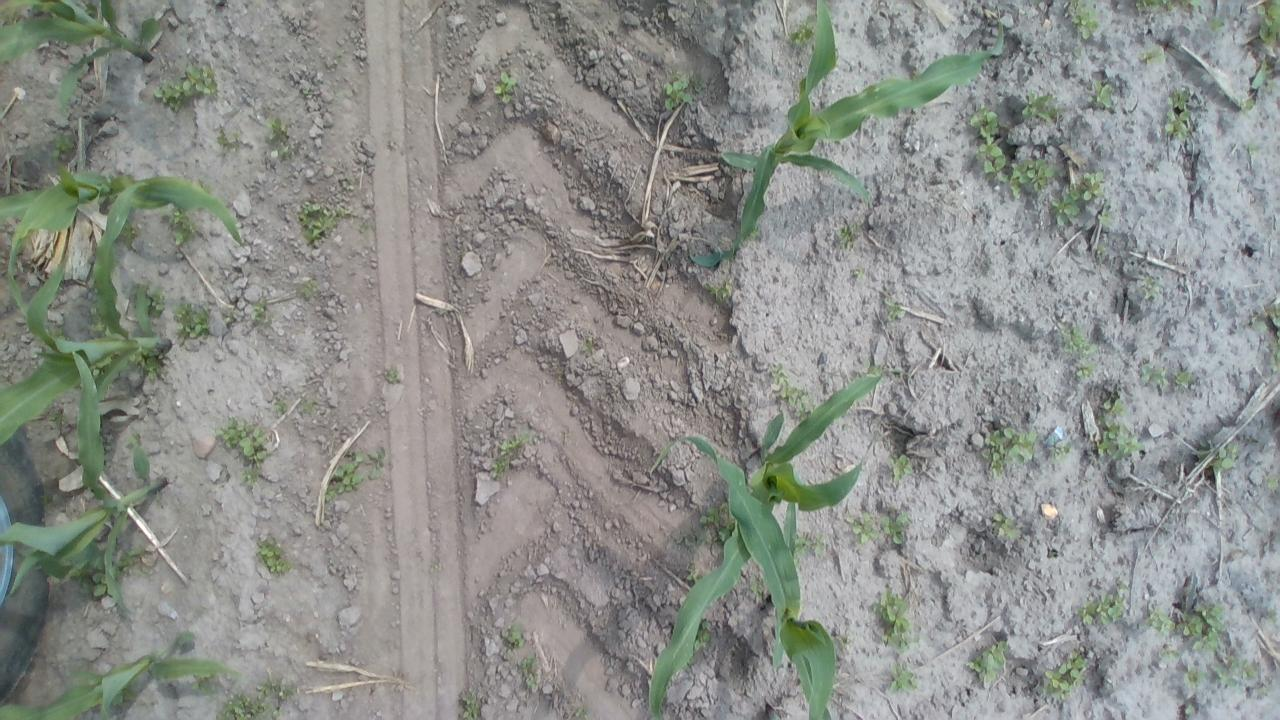Maize: (684, 0, 1010, 267), (647, 371, 896, 720), (653, 438, 843, 720), (5, 346, 171, 623), (0, 180, 167, 450), (1, 150, 248, 318), (1, 630, 241, 720), (1, 1, 162, 117)
Weeds: (296, 199, 375, 247), (321, 448, 384, 505), (154, 61, 222, 111), (1050, 169, 1106, 227), (1094, 396, 1144, 458), (874, 588, 920, 655), (218, 680, 294, 720), (984, 424, 1040, 478), (1175, 600, 1226, 654), (216, 418, 270, 467), (974, 108, 1008, 185), (1074, 581, 1129, 627), (1212, 657, 1270, 699), (1042, 652, 1088, 702), (491, 430, 538, 478), (770, 367, 811, 422), (1008, 156, 1056, 197), (1252, 302, 1280, 372), (968, 638, 1009, 685), (1194, 438, 1244, 474), (253, 536, 293, 578), (1164, 88, 1194, 142), (172, 300, 212, 340), (266, 116, 298, 162), (72, 567, 115, 600), (1138, 362, 1194, 387), (1019, 90, 1061, 123), (1066, 0, 1100, 40), (664, 70, 698, 110), (844, 510, 879, 545), (1058, 322, 1093, 356), (676, 525, 734, 545), (1141, 602, 1174, 637), (168, 207, 199, 244), (1256, 0, 1280, 47), (1250, 57, 1280, 91), (790, 12, 817, 49), (882, 512, 909, 546), (492, 71, 520, 103), (794, 532, 826, 560), (706, 276, 734, 305), (1088, 79, 1114, 110), (134, 352, 164, 378), (1133, 0, 1202, 11), (889, 665, 917, 692), (991, 512, 1018, 540), (144, 288, 170, 316), (888, 454, 916, 480), (836, 222, 860, 252), (116, 549, 146, 573), (1182, 664, 1207, 690), (51, 133, 75, 160), (519, 656, 539, 688), (698, 502, 726, 524), (90, 306, 110, 336), (458, 693, 480, 720), (190, 674, 218, 695), (240, 466, 268, 487), (881, 298, 906, 321), (504, 624, 527, 648), (1048, 439, 1074, 459), (126, 429, 147, 453), (338, 166, 356, 194), (697, 618, 714, 647), (112, 686, 136, 706), (90, 357, 114, 377), (120, 221, 140, 245), (301, 87, 328, 103), (384, 365, 404, 386), (299, 280, 319, 301), (252, 298, 268, 324), (1074, 360, 1097, 378), (1143, 276, 1160, 300), (44, 410, 66, 428), (748, 575, 764, 599), (216, 131, 236, 150), (1182, 699, 1204, 716), (684, 566, 706, 583), (1207, 15, 1227, 33), (1098, 206, 1114, 228), (1138, 46, 1160, 62), (859, 362, 883, 376), (38, 490, 57, 506), (581, 336, 597, 354), (851, 265, 867, 282), (272, 398, 287, 416), (298, 399, 314, 415), (1239, 95, 1254, 112), (1161, 646, 1178, 661), (224, 306, 238, 324), (427, 558, 442, 574), (570, 708, 590, 720), (330, 50, 344, 66), (1246, 142, 1260, 156), (81, 1, 96, 14), (52, 327, 66, 340), (1265, 474, 1277, 489), (1094, 244, 1108, 256)
